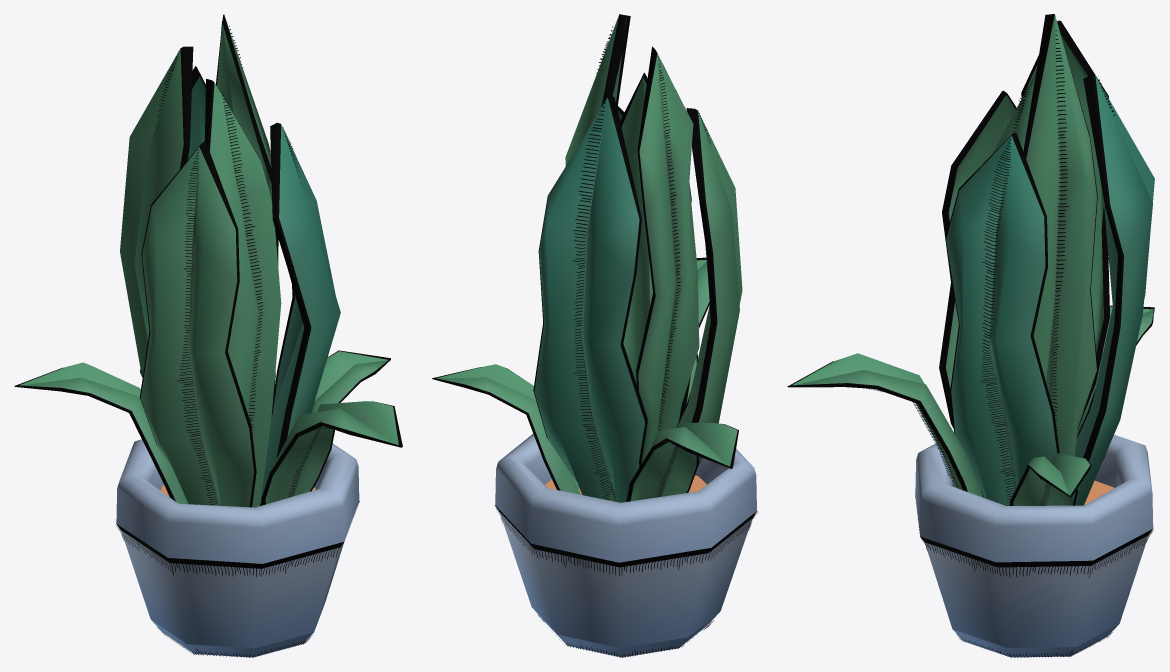
The model's file is FlowerPot_Small_01.glb.
3 views of the same model, side by side, from view 1: azimuth 30°, elevation 25°; view 2: azimuth 150°, elevation 25°; view 3: azimuth 270°, elevation 25° (orthographic). The views are drawn at different scales.
Parts seen in each view (by area): view 1: FlowerPot_Small_01; view 2: FlowerPot_Small_01; view 3: FlowerPot_Small_01.
Boxes of the visible parts, x1,y1,x2,y2 form: FlowerPot_Small_01: (14, 14, 402, 657); FlowerPot_Small_01: (432, 14, 757, 657); FlowerPot_Small_01: (787, 14, 1154, 657).
Bounding box in the file's own units: 1.07 × 1.84 × 1.01.
Materials: 3 (3 with a texture image).
